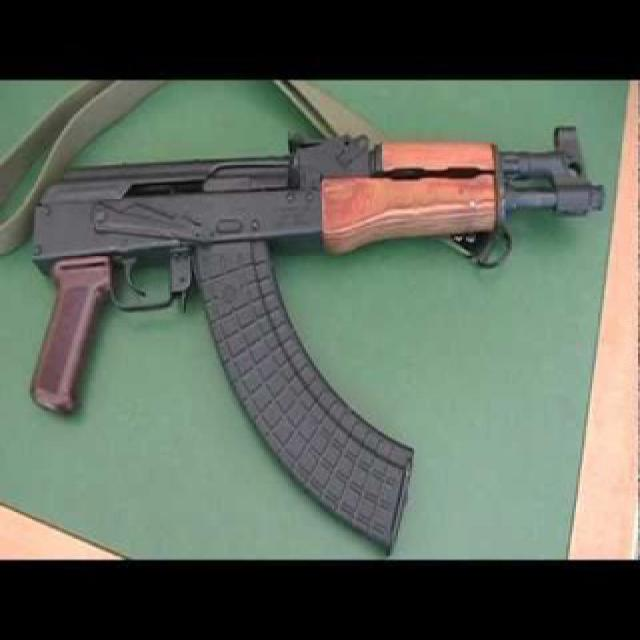long weapon: (14, 123, 624, 548)
